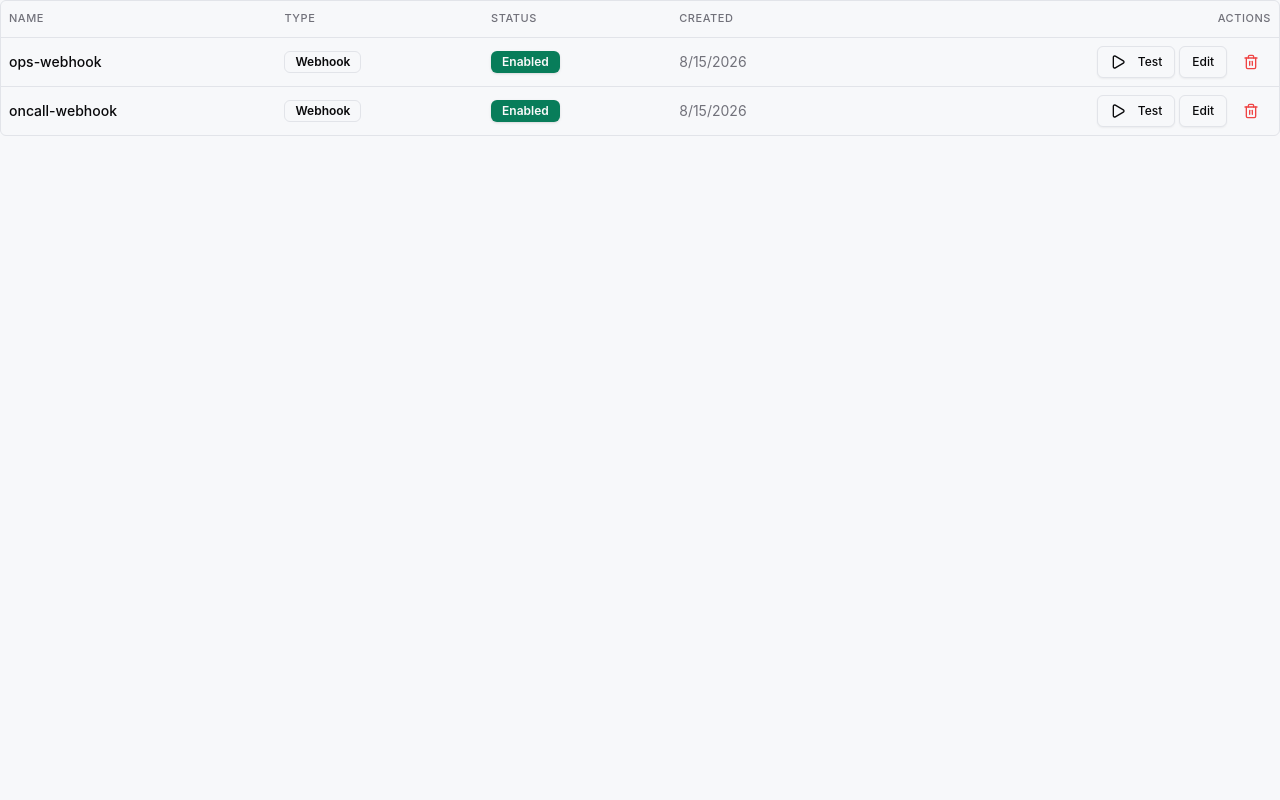
Scenario: ChannelsTable — delete › asks first, naming the channel and what uses it, and sends nothing yet
Click the button named "Delete oncall-webhook".
click(1251, 110)  # box [1231, 94, 1271, 126]
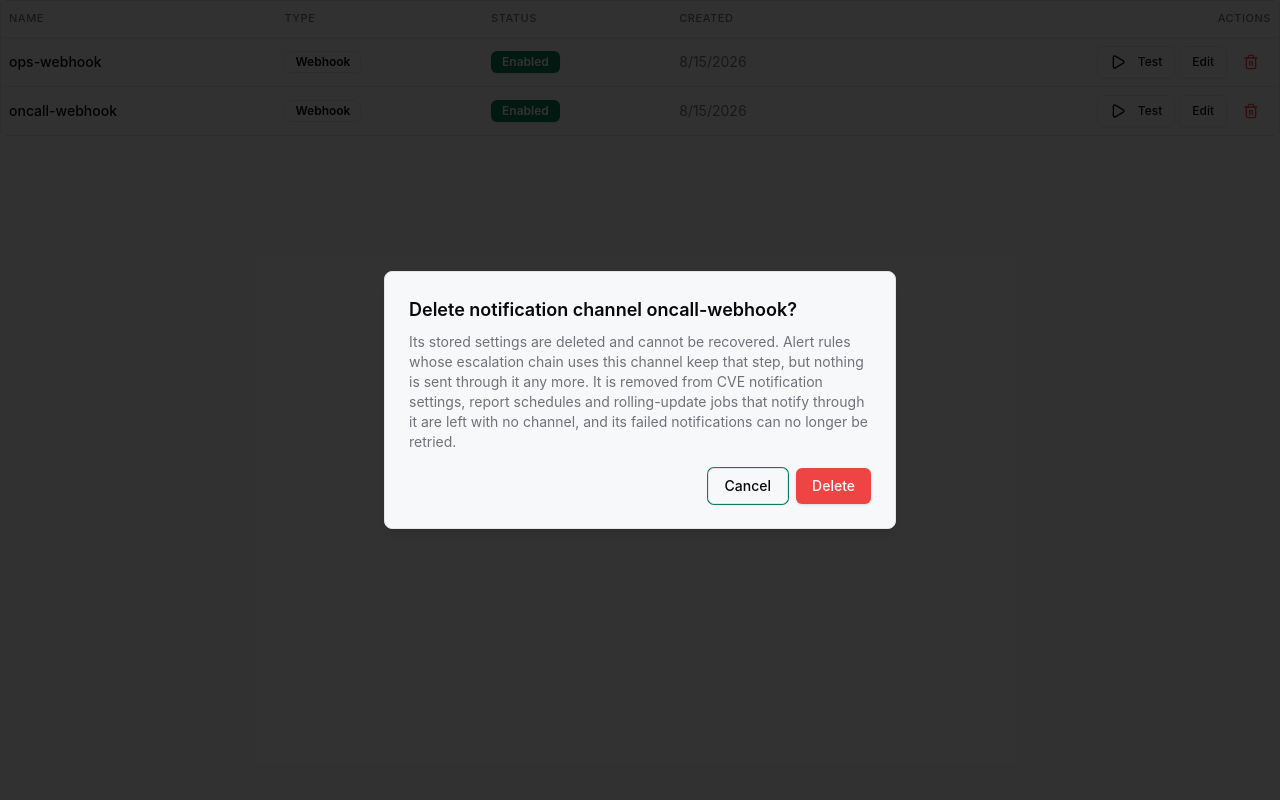
Now the dialog shows "Delete notification channel oncall-webhook?", box [409, 299, 797, 320]
Now the dialog shows "Alert rules whose escalation chain uses this channel keep that step", box [409, 333, 868, 450]
